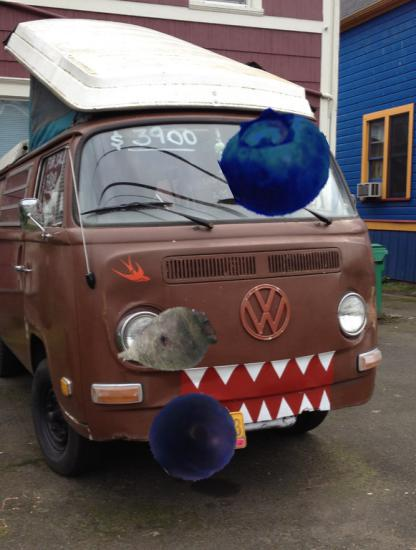Beetroot: (114, 293, 218, 397)
Huckleberry: (223, 108, 332, 217)
Plum: (150, 393, 239, 482)
